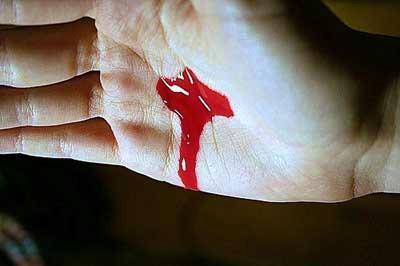Fire: (155, 67, 233, 189)
